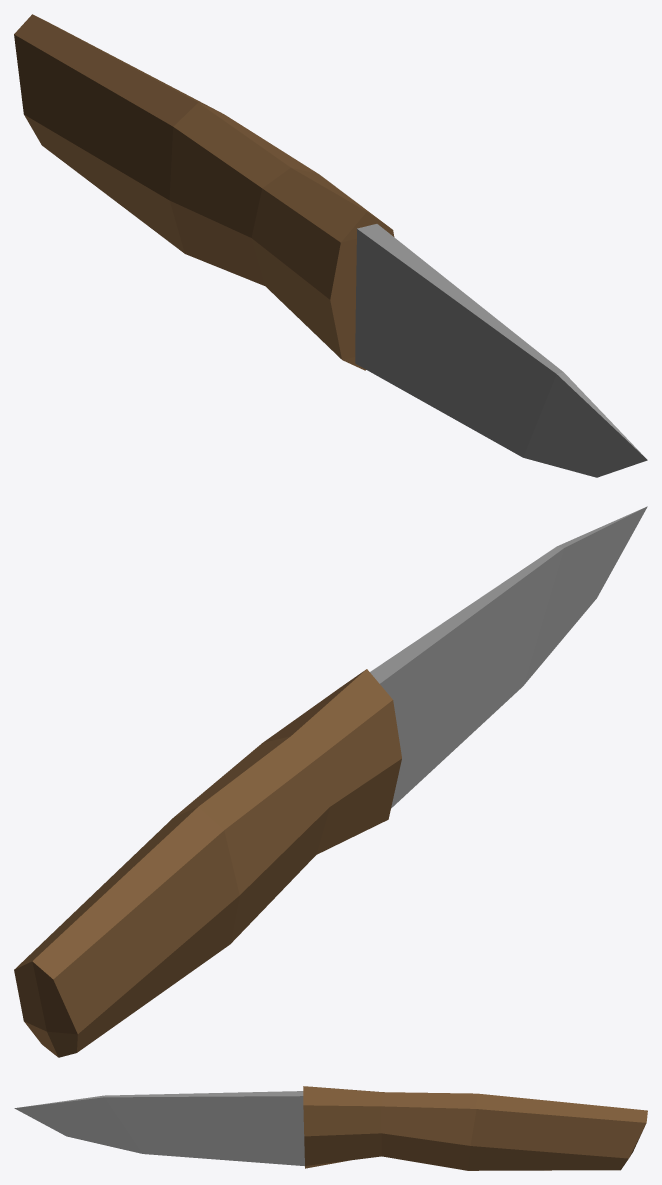
File: knife_5.fbx
The picture shows the model from 3 angles, top to bottom: view 1: azimuth 30°, elevation 25°; view 2: azimuth 150°, elevation 25°; view 3: azimuth 270°, elevation 25°; orthographic projection. The views are drawn at different scales.
Parts seen in each view (by area): view 1: knife_5; view 2: knife_5; view 3: knife_5.
Boxes of the visible parts, <box> form: knife_5: <box>14,14,647,477</box>; knife_5: <box>14,506,647,1057</box>; knife_5: <box>14,1086,647,1170</box>.
Bounding box in the file's own units: 3.5 × 6.99 × 47.41.
Materials: 1 (1 with a texture image).
